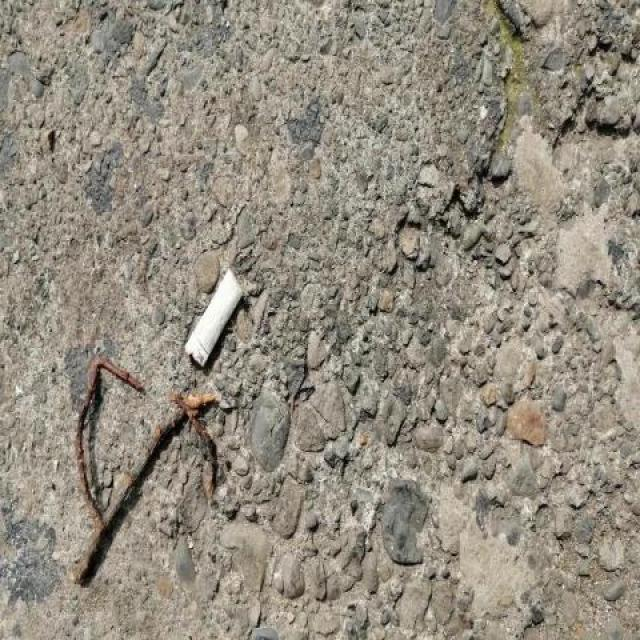non-organic waste: (180, 263, 248, 376)
